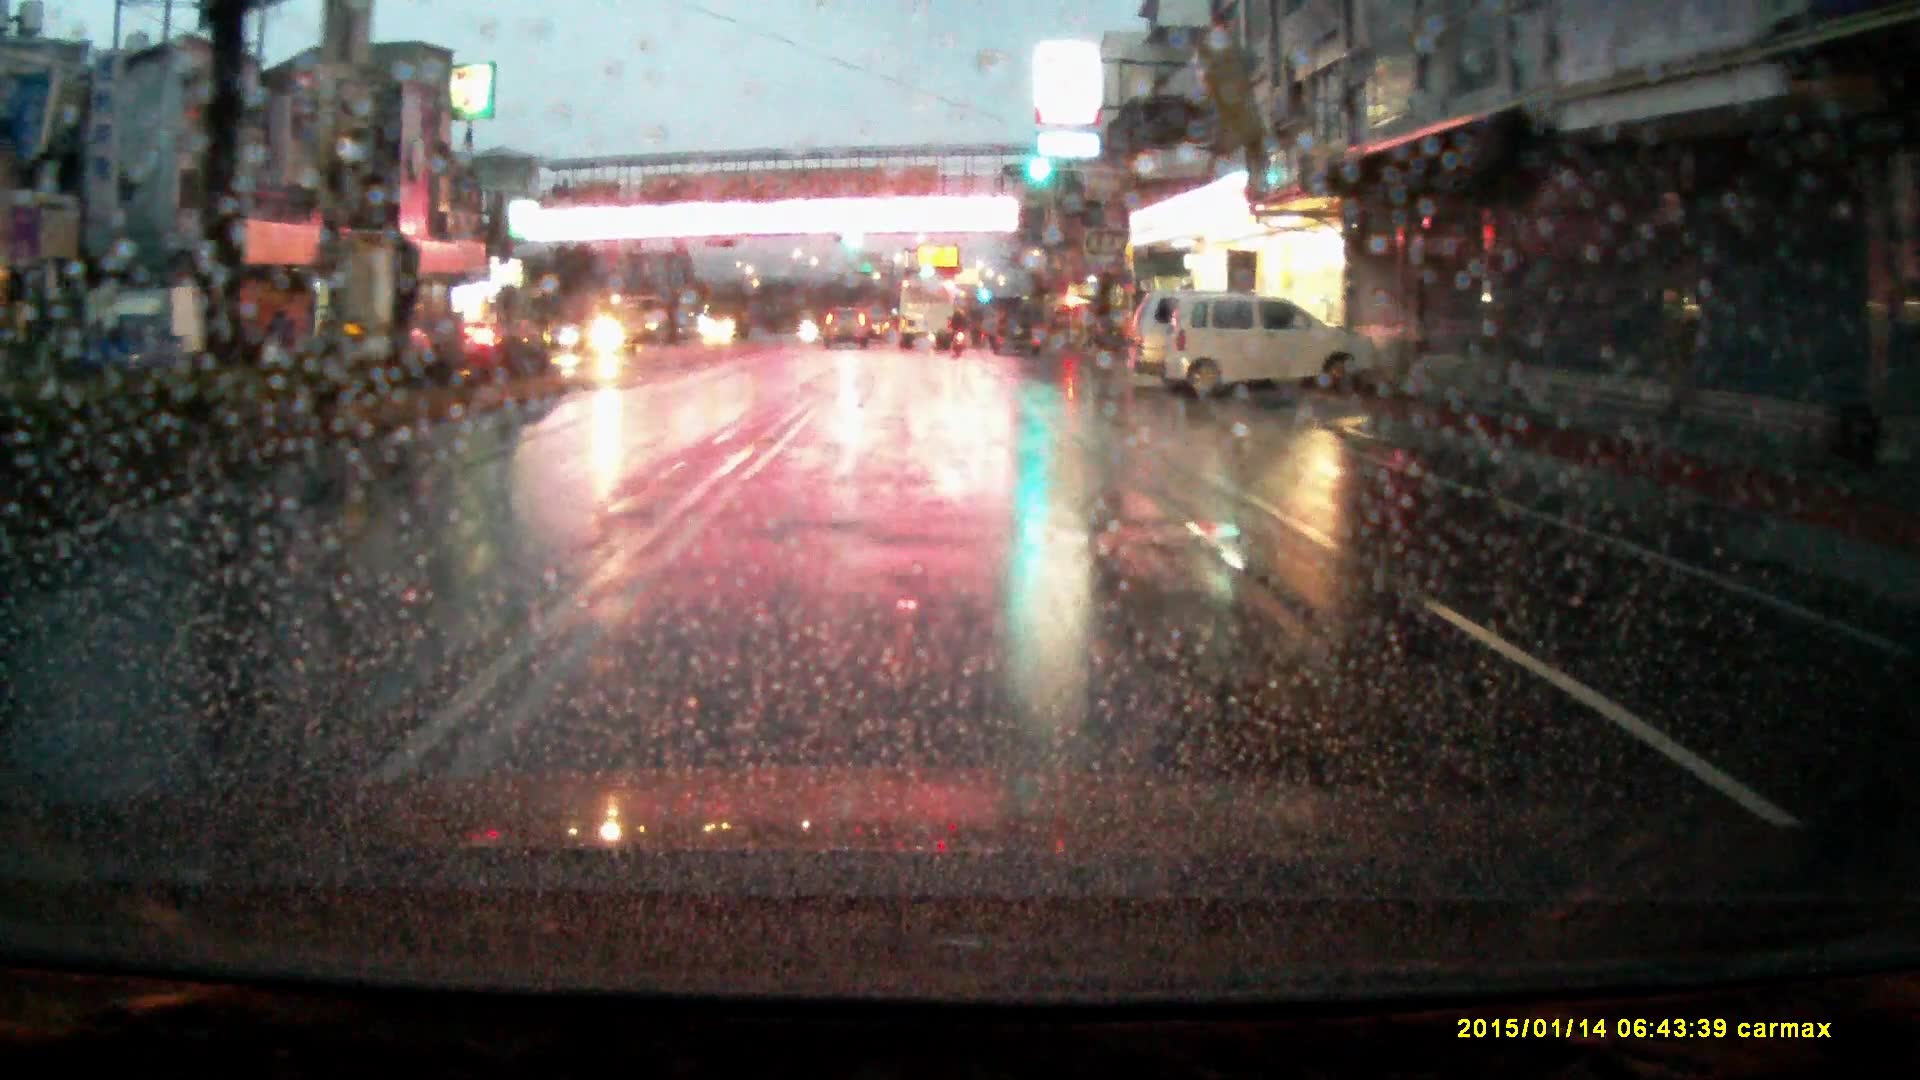rider: (950, 306, 970, 356)
vehicle: (1165, 293, 1383, 406), (80, 284, 234, 376), (1126, 290, 1260, 386), (558, 292, 647, 355), (899, 280, 957, 350), (989, 302, 1044, 356), (824, 303, 869, 347)
